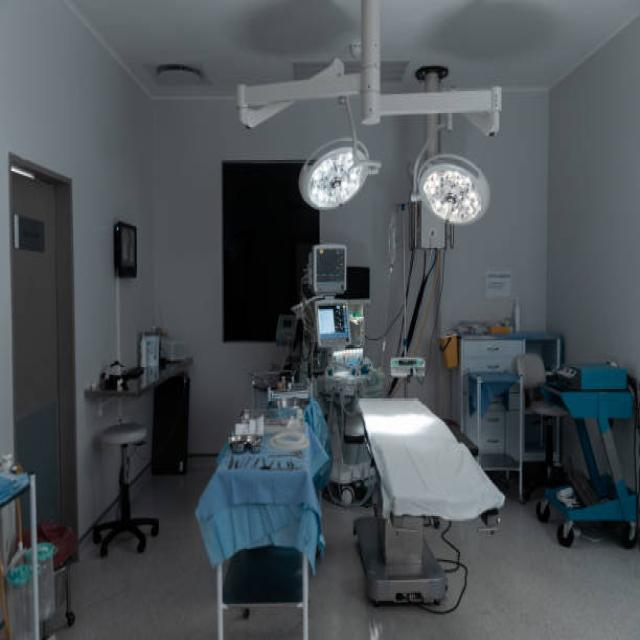Monitor: (308, 296, 358, 354), (311, 234, 348, 304), (342, 258, 379, 314)
bed: (354, 394, 509, 630)
stool: (93, 409, 162, 567)
tools_table: (203, 402, 331, 640), (464, 346, 534, 524)
